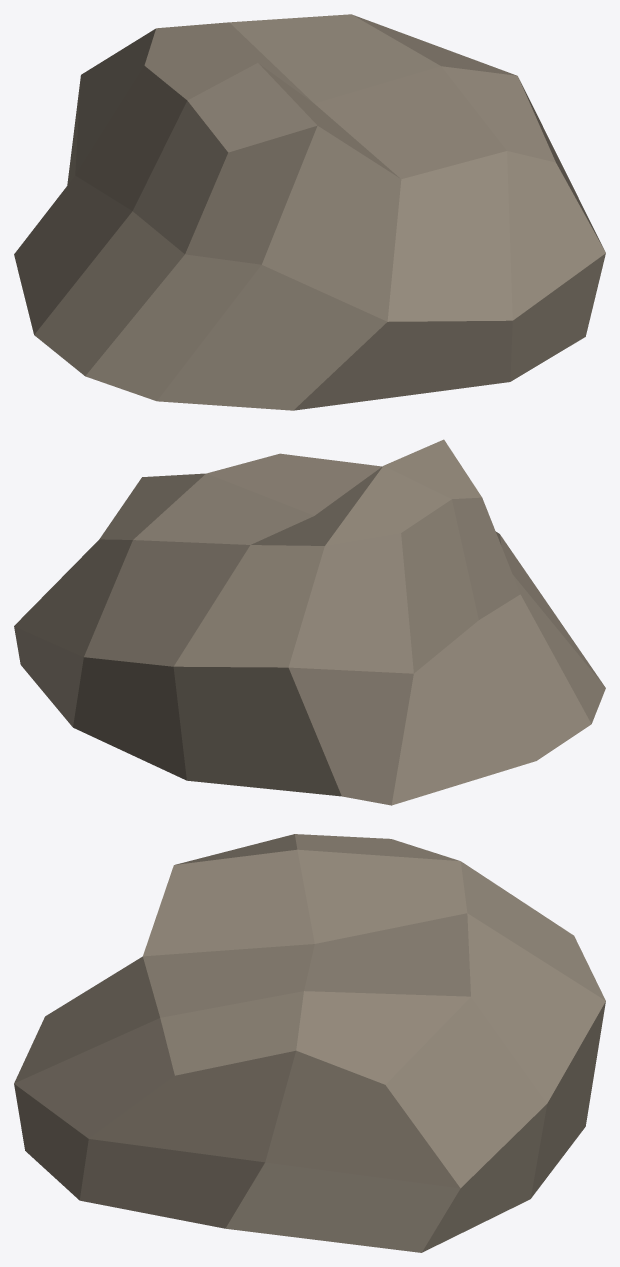
The model's file is stoneA-compressed.glb.
The picture shows the model from 3 angles, top to bottom: view 1: azimuth 30°, elevation 25°; view 2: azimuth 150°, elevation 25°; view 3: azimuth 270°, elevation 25°; orthographic projection. The views are drawn at different scales.
Visible parts, largest first — view 1: stoneA; view 2: stoneA; view 3: stoneA.
Part boxes in pixels (<box>): stoneA: <box>14,14,605,410</box>; stoneA: <box>14,439,605,805</box>; stoneA: <box>14,834,605,1252</box>.
Bounding box in the file's own units: 2 × 0.9 × 1.97.
